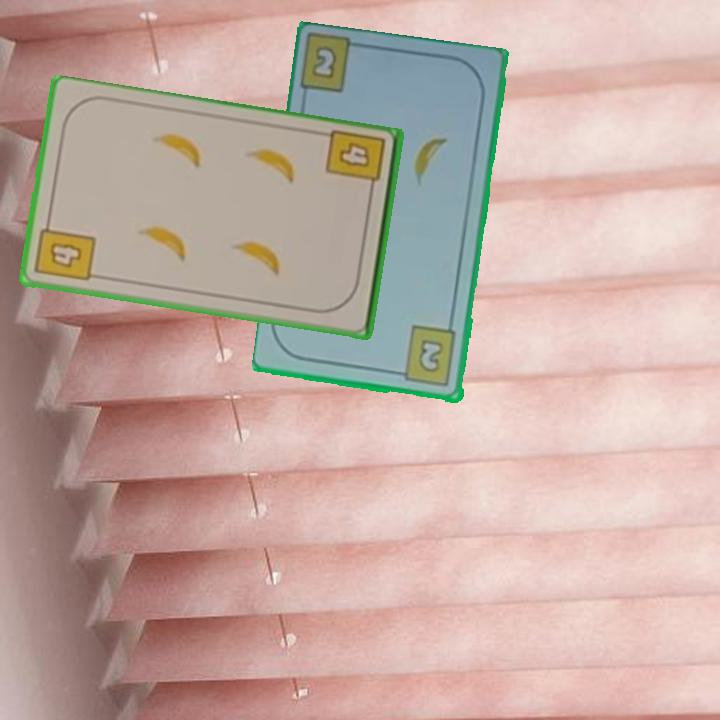2b: (392, 323, 460, 390), (308, 42, 340, 82)
4b: (322, 127, 389, 199), (31, 215, 99, 285)
